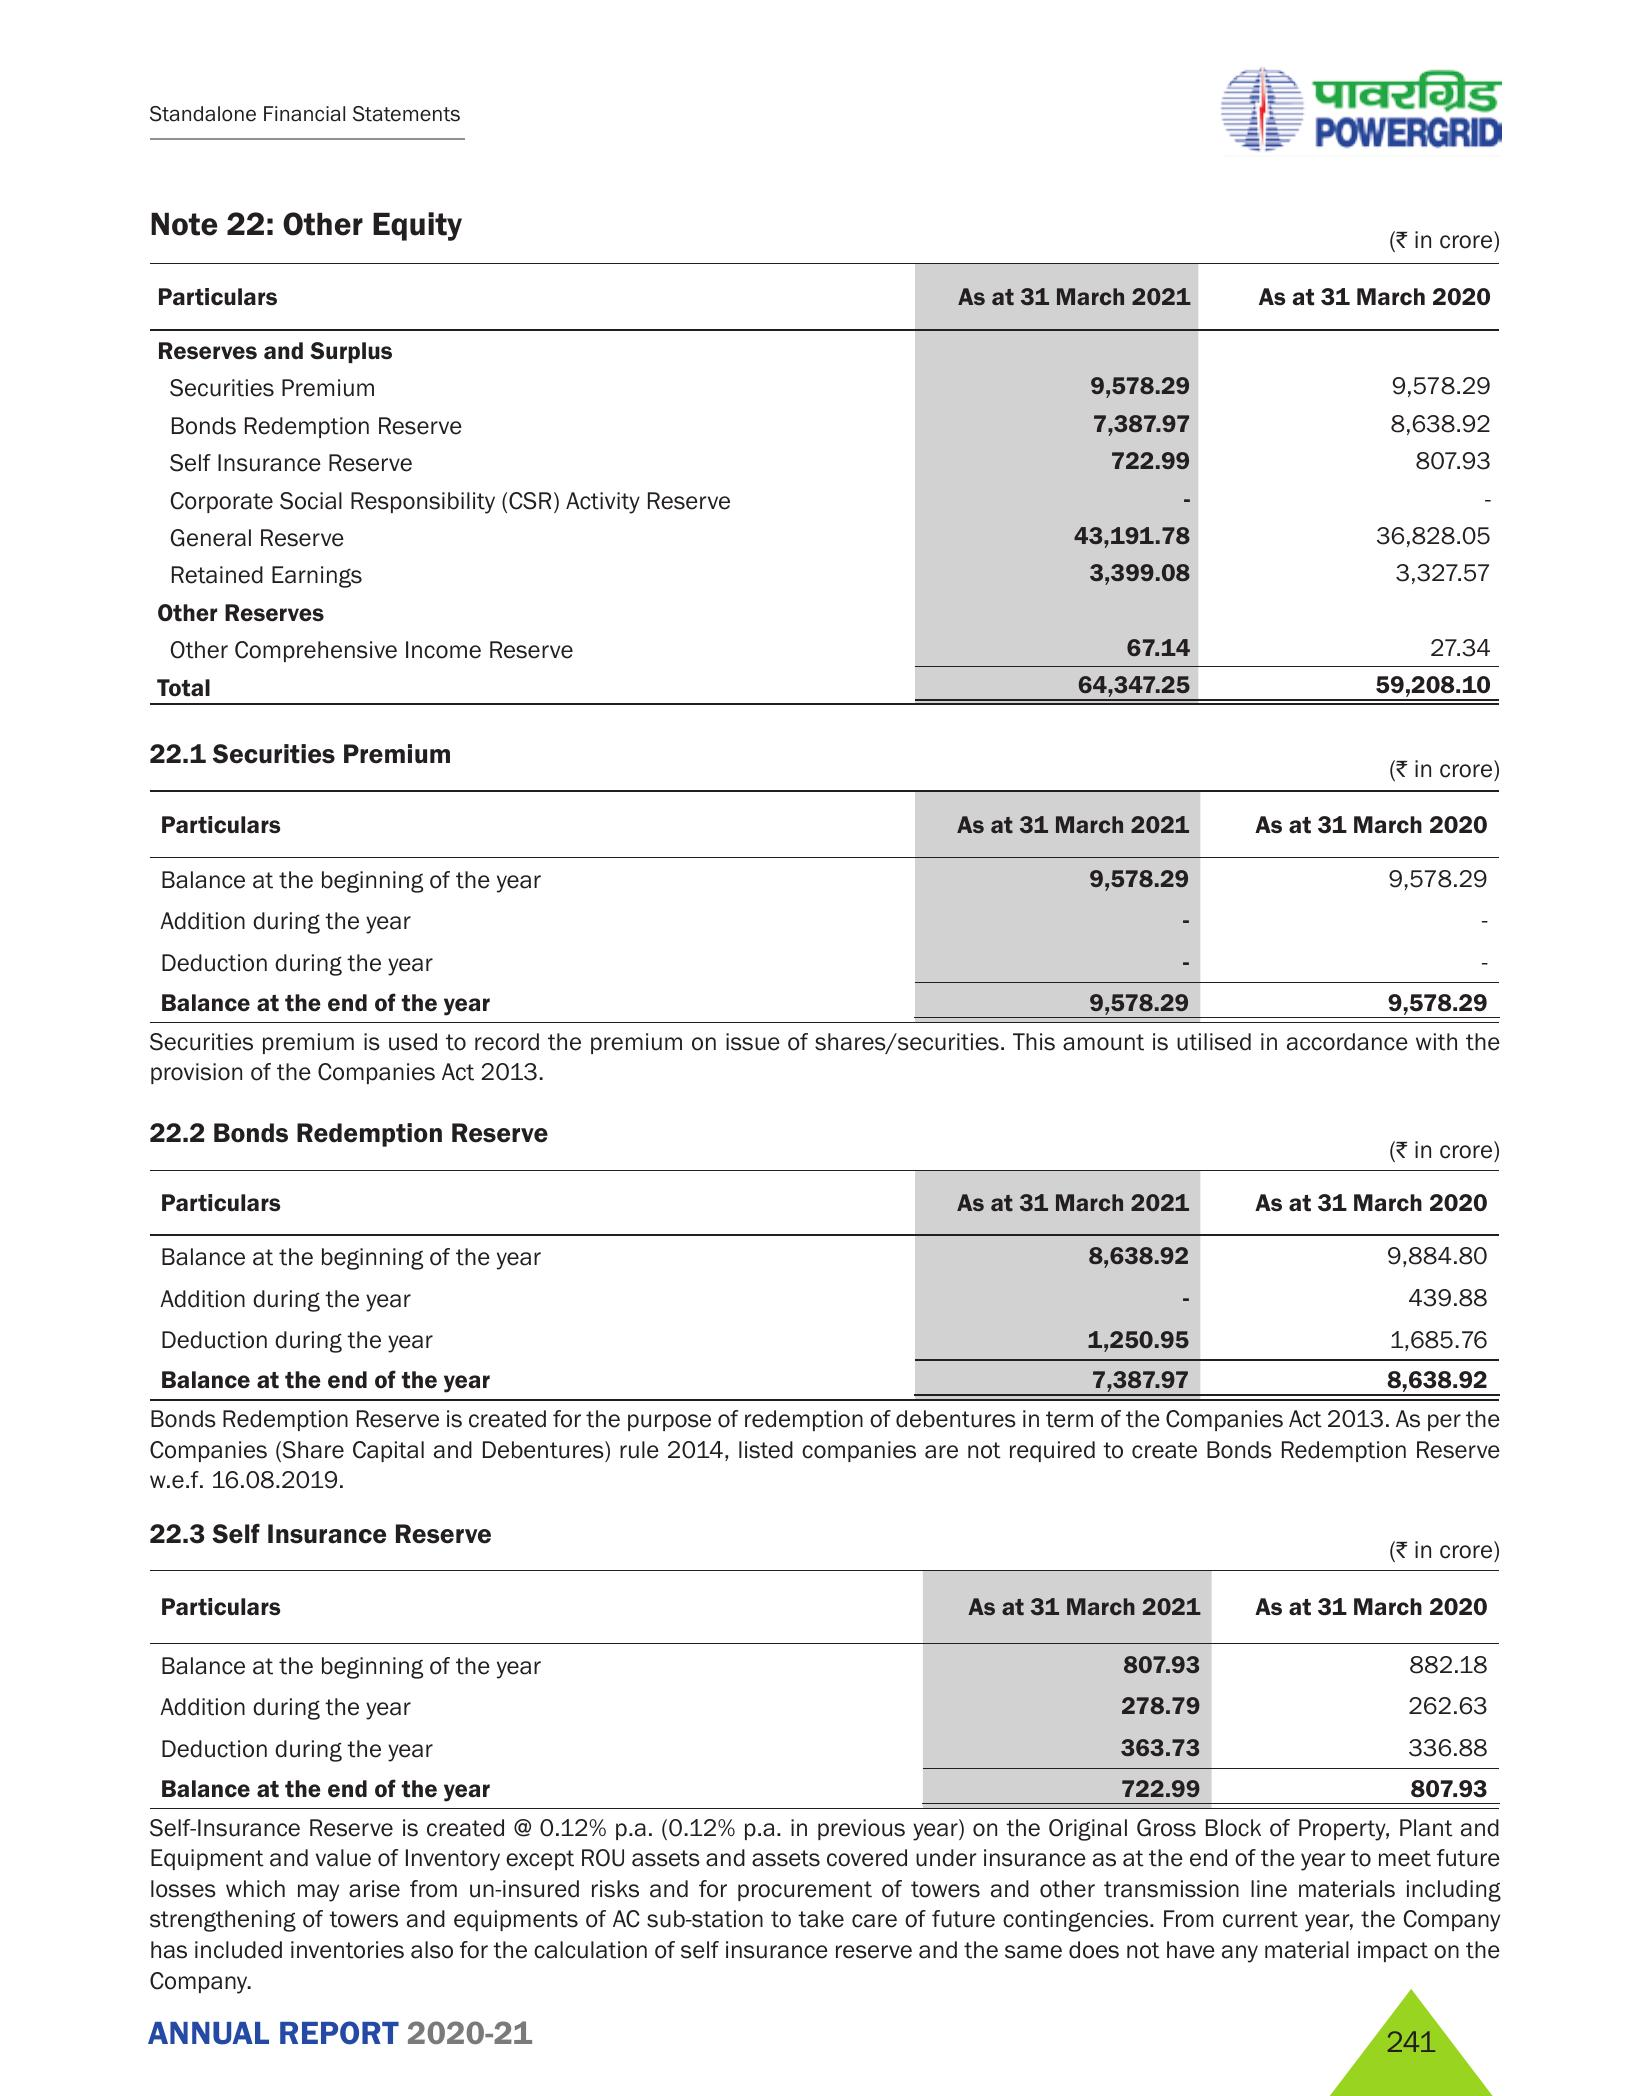Footer: (0, 1979, 1650, 2096)
Header: (0, 0, 1650, 155)
Table: (129, 257, 1521, 703), (126, 779, 1516, 1017), (126, 1169, 1521, 1405), (134, 1569, 1516, 1807)
